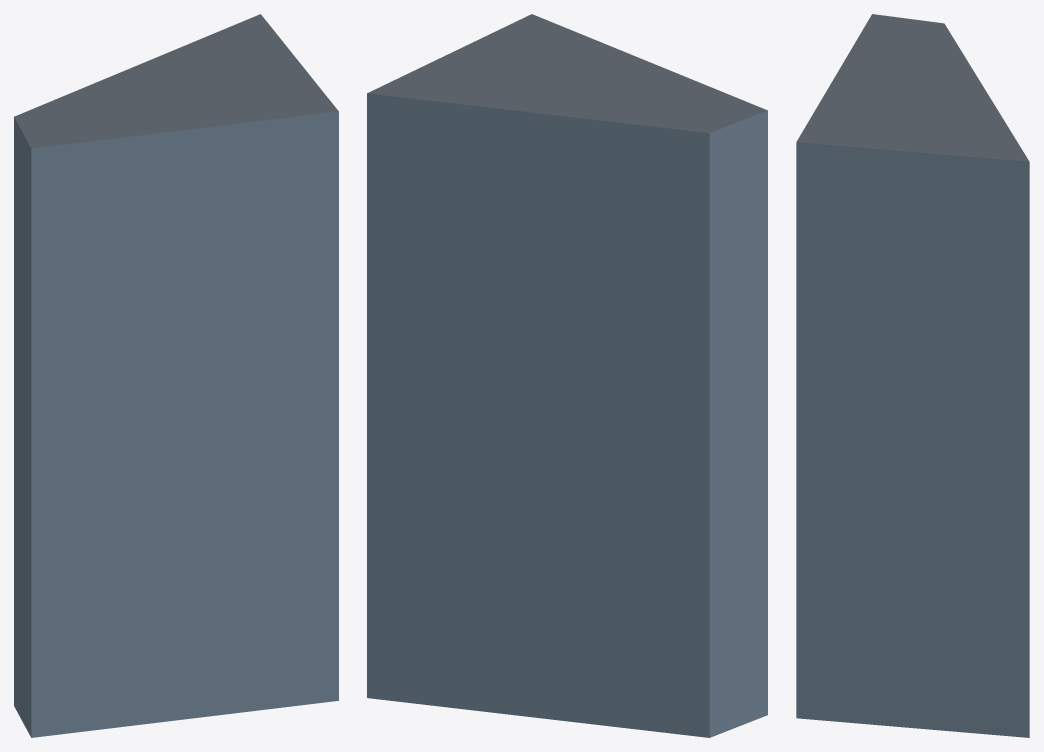
3 views of the same model, side by side, from view 1: azimuth 30°, elevation 25°; view 2: azimuth 150°, elevation 25°; view 3: azimuth 270°, elevation 25° (orthographic). The views are drawn at different scales.
Visible parts, largest first — view 1: HP-w505636142; view 2: HP-w505636142; view 3: HP-w505636142.
Boxes of the visible parts, x1=… form: HP-w505636142: x1=14, y1=14, x2=338, y2=737; HP-w505636142: x1=367, y1=14, x2=767, y2=737; HP-w505636142: x1=796, y1=14, x2=1029, y2=737.
Size of the model in its own units: 41.83 by 76 by 27.9.
